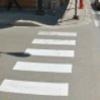crosswalks: (0, 32, 78, 96)
